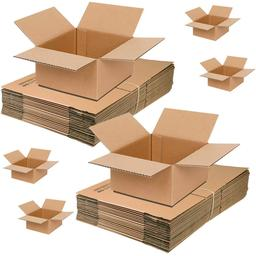cardboard: (2, 0, 160, 90), (81, 100, 229, 194), (0, 140, 65, 189), (176, 0, 238, 48), (188, 51, 252, 96), (12, 192, 74, 238)
